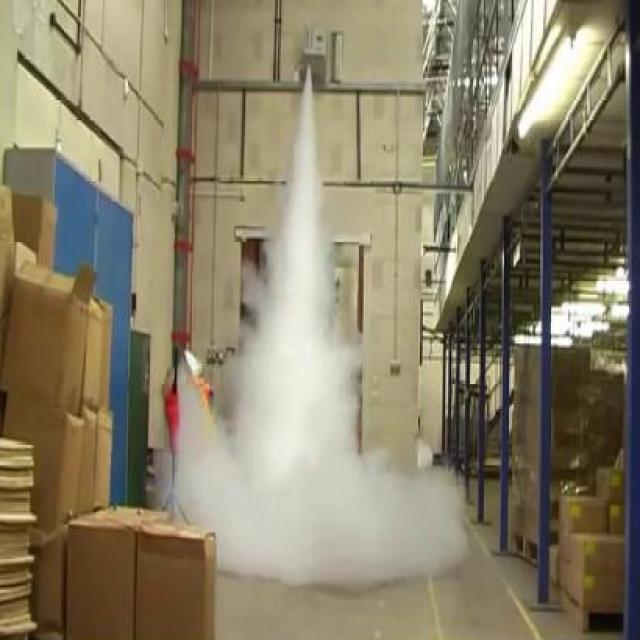fire: (151, 416, 472, 592), (236, 116, 367, 437)
